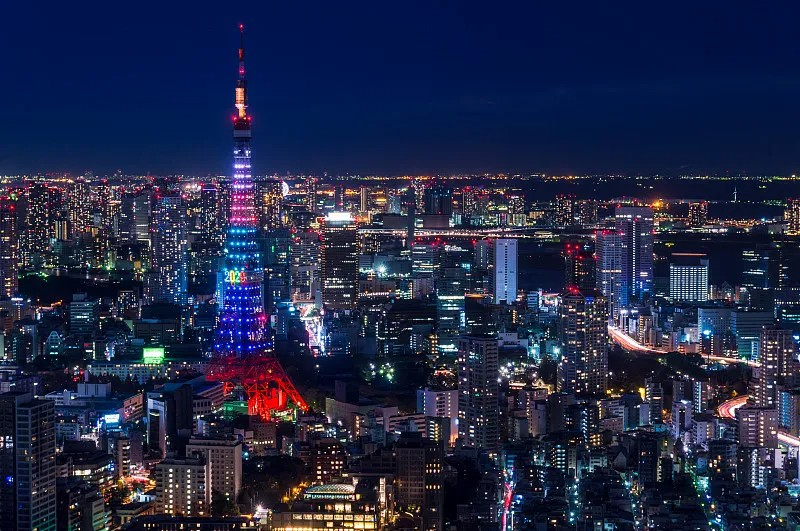Tokyo: (208, 20, 310, 423)
